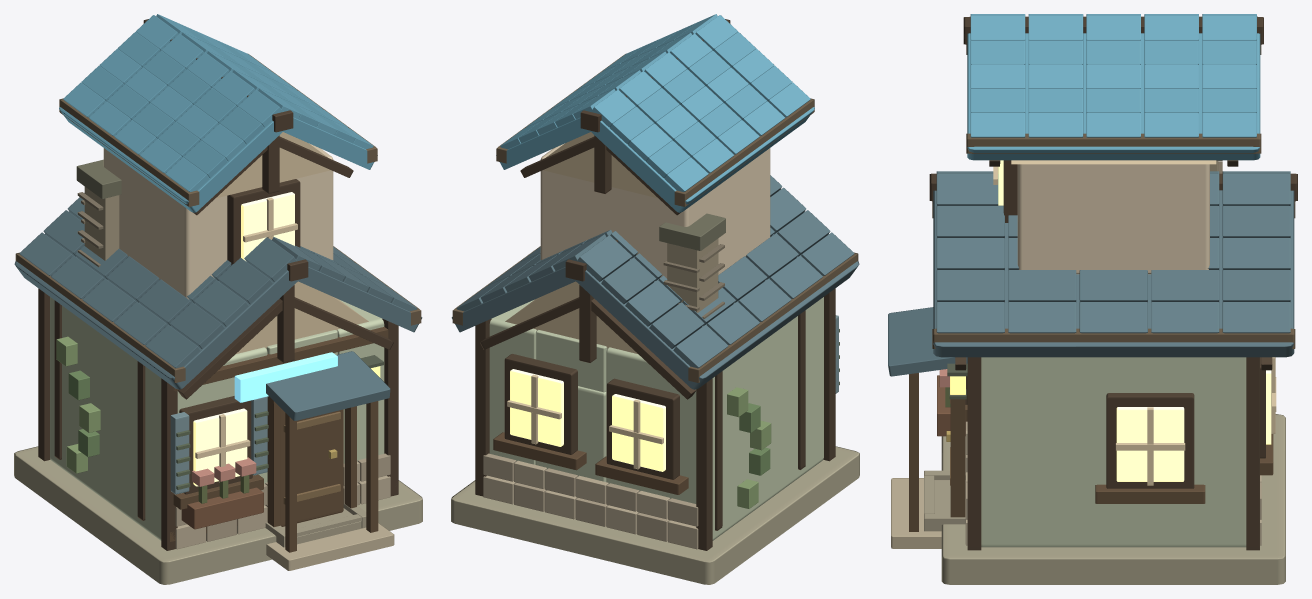
Rendered from workshop-1-2.glb.
3 renders of one model, left to right at view 1: azimuth 30°, elevation 25°; view 2: azimuth 150°, elevation 25°; view 3: azimuth 270°, elevation 25°, orthographic. The views are drawn at different scales.
Parts seen in each view (by area): view 1: workshop-2-1, door-hinge; view 2: workshop-2-1; view 3: workshop-2-1.
Boxes of the visible parts, x1,y1,x2,y2 form: workshop-2-1: (14,14,422,584); door-hinge: (280,407,343,526); workshop-2-1: (451,14,859,584); workshop-2-1: (888,14,1297,584).
Bounding box in the file's own units: 1.88 × 3 × 2.24.
